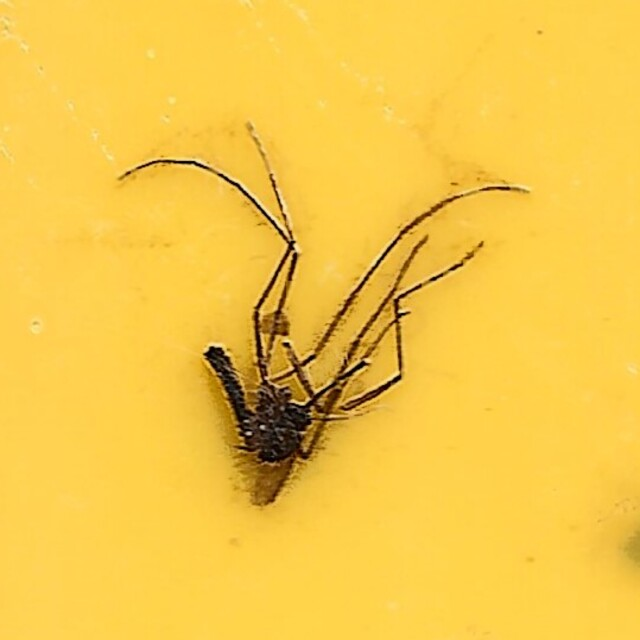Nematocera: (119, 129, 521, 511)
